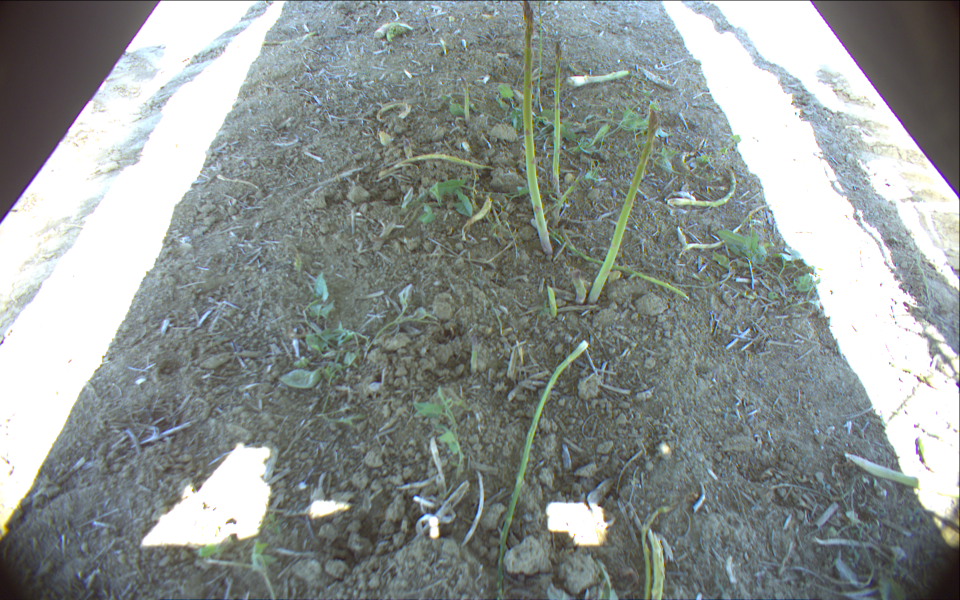aspa: (582, 106, 660, 307), (515, 1, 555, 259), (550, 40, 565, 201)
